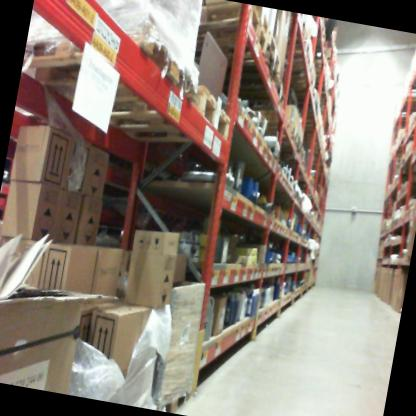pallet: (13, 0, 216, 158), (83, 61, 248, 168), (203, 30, 290, 105), (183, 2, 272, 71), (149, 372, 192, 414)
